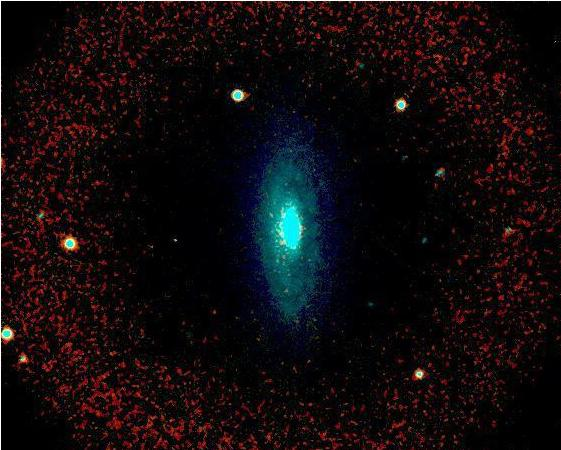star: (160, 223, 190, 253)
